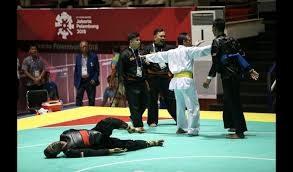fall: (39, 109, 165, 158)
